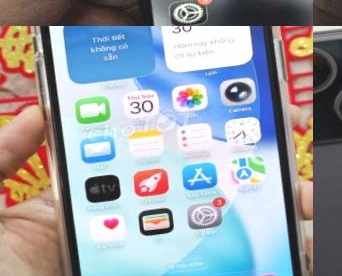scratch: (333, 79, 342, 132)
